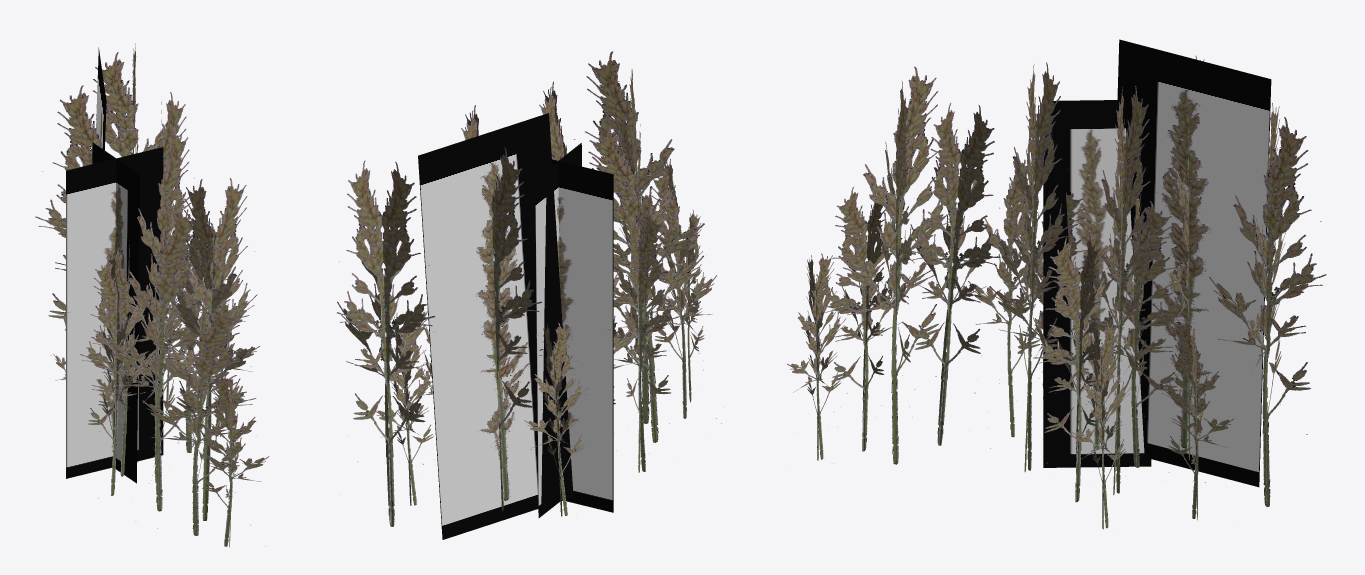
The model's file is grain.fbx.
The picture shows the model from 3 angles, left to right: view 1: azimuth 30°, elevation 25°; view 2: azimuth 150°, elevation 25°; view 3: azimuth 270°, elevation 25°; orthographic projection. The views are drawn at different scales.
Parts seen in each view (by area): view 1: grain; view 2: grain; view 3: grain.
Part boxes in pixels (x1,y1,x2,y2): grain: (35, 43, 269, 547); grain: (337, 51, 721, 539); grain: (787, 39, 1326, 529).
Bounding box in the file's own units: 60.9 × 89.78 × 105.
2 materials, 2 textured.
